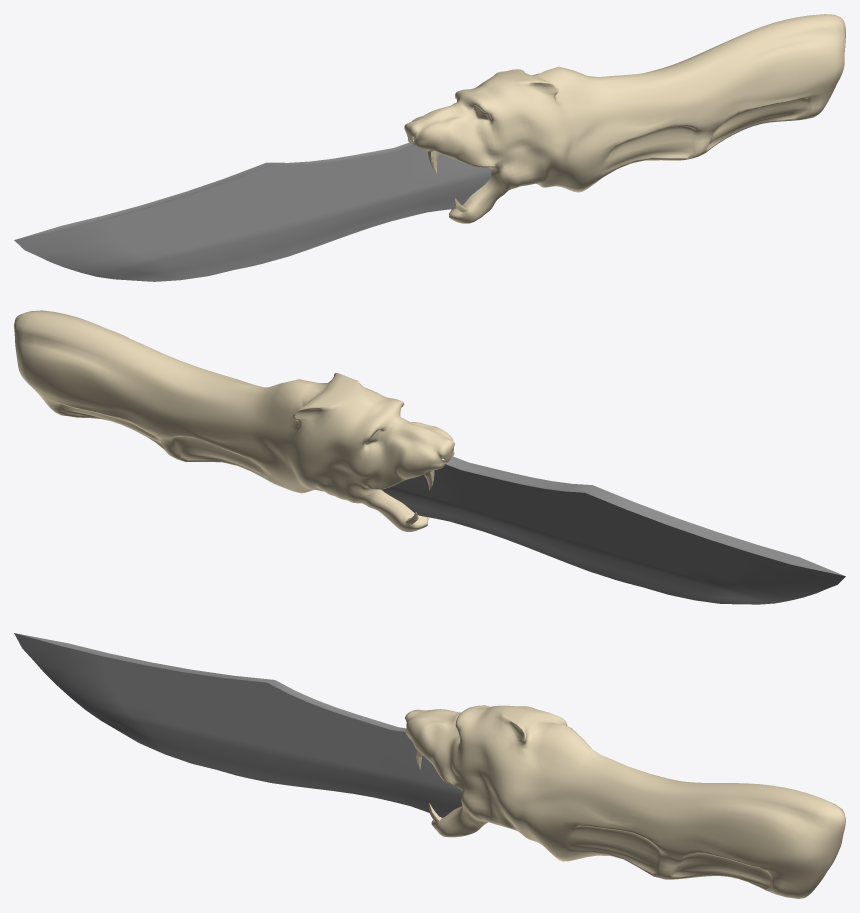
File: XiaoDao.FBX
3 views of the same model, one above another, from view 1: azimuth 30°, elevation 25°; view 2: azimuth 150°, elevation 25°; view 3: azimuth 330°, elevation 25° (orthographic). The views are drawn at different scales.
Parts seen in each view (by area): view 1: Линия01, Линия03; view 2: Линия01, Линия03; view 3: Линия01, Линия03.
Part boxes in pixels (left/top/right/bottom): Линия01: left=404, top=14, right=845, bottom=223; Линия03: left=14, top=142, right=491, bottom=281; Линия01: left=14, top=310, right=454, bottom=531; Линия03: left=381, top=456, right=845, bottom=604; Линия01: left=405, top=705, right=845, bottom=898; Линия03: left=14, top=633, right=462, bottom=817.
Size of the model in its own units: 7384 by 1117 by 774.
